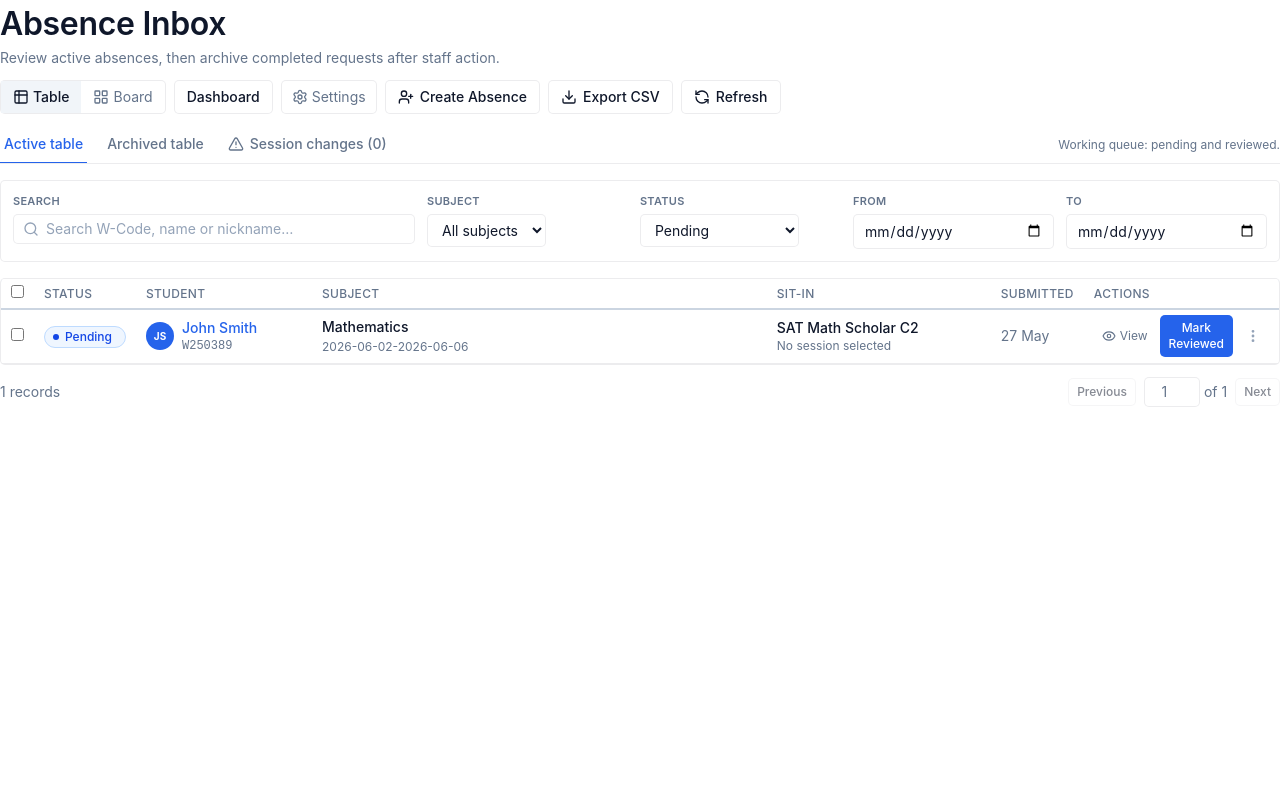
Scenario: Absence inbox › shows stale edit error toast on delete API conflict
The width and height of the screenshot is (1280, 800).
Expected: the link "John Smith" is shown, [182,318,257,336]
Click the button named "more actions" at coordinates (1253, 336), box [1237,320,1269,352]
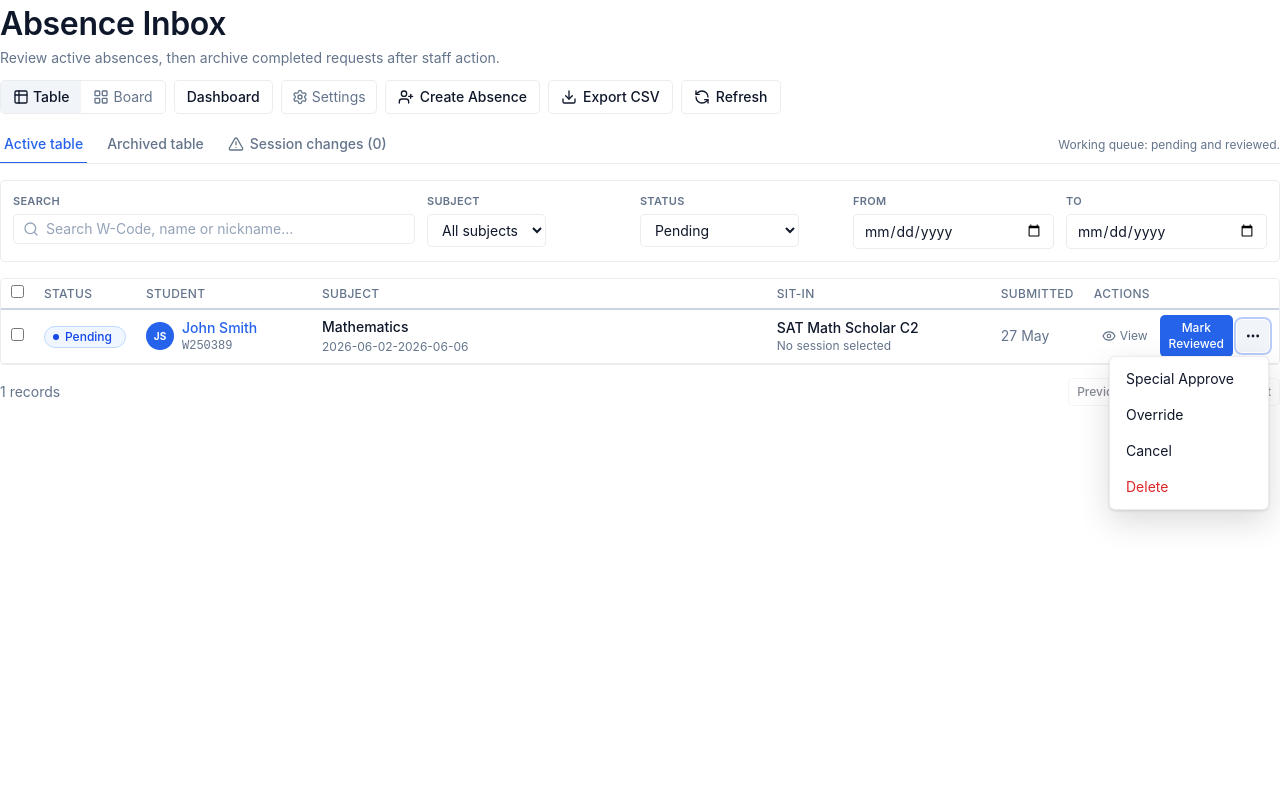
Click the menu item "Delete" at coordinates (1189, 486), box [1114,468,1264,504]
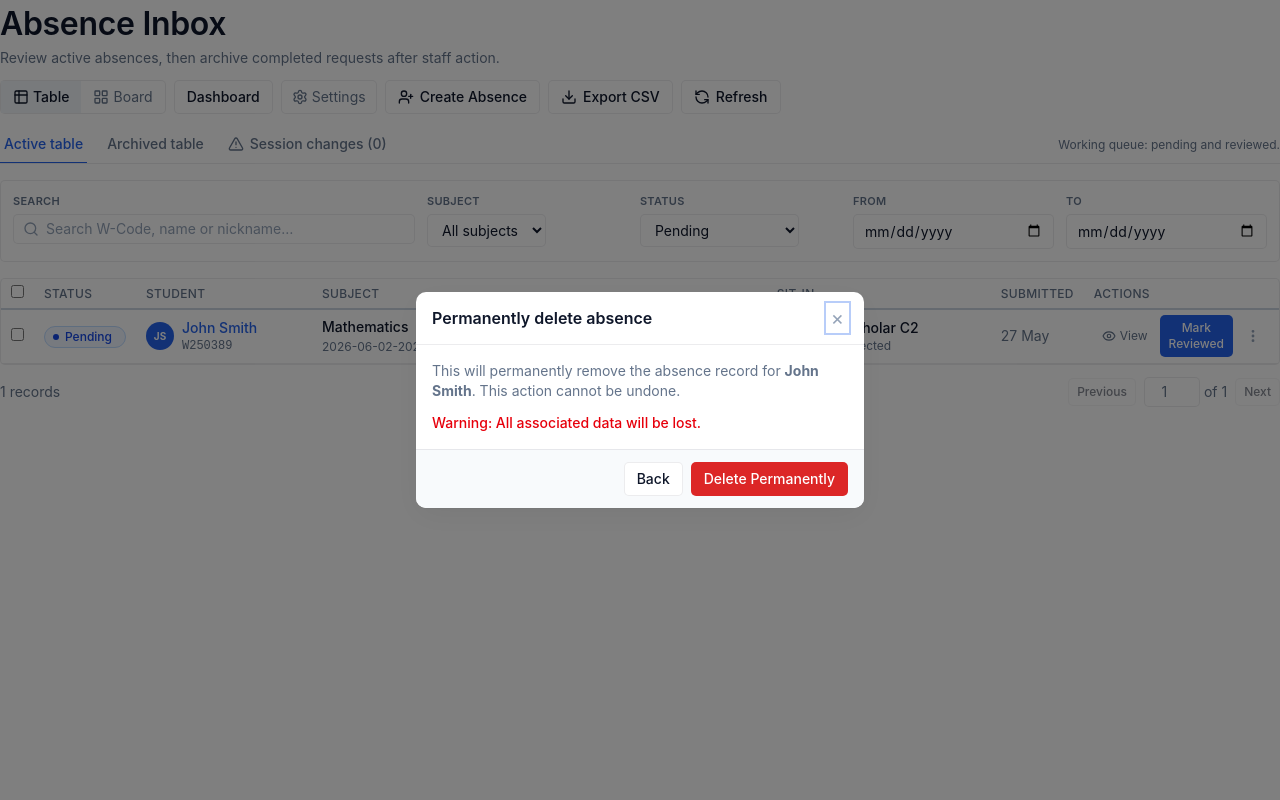
Click the button "Delete Permanently" at coordinates (769, 479), box [691,462,848,496]
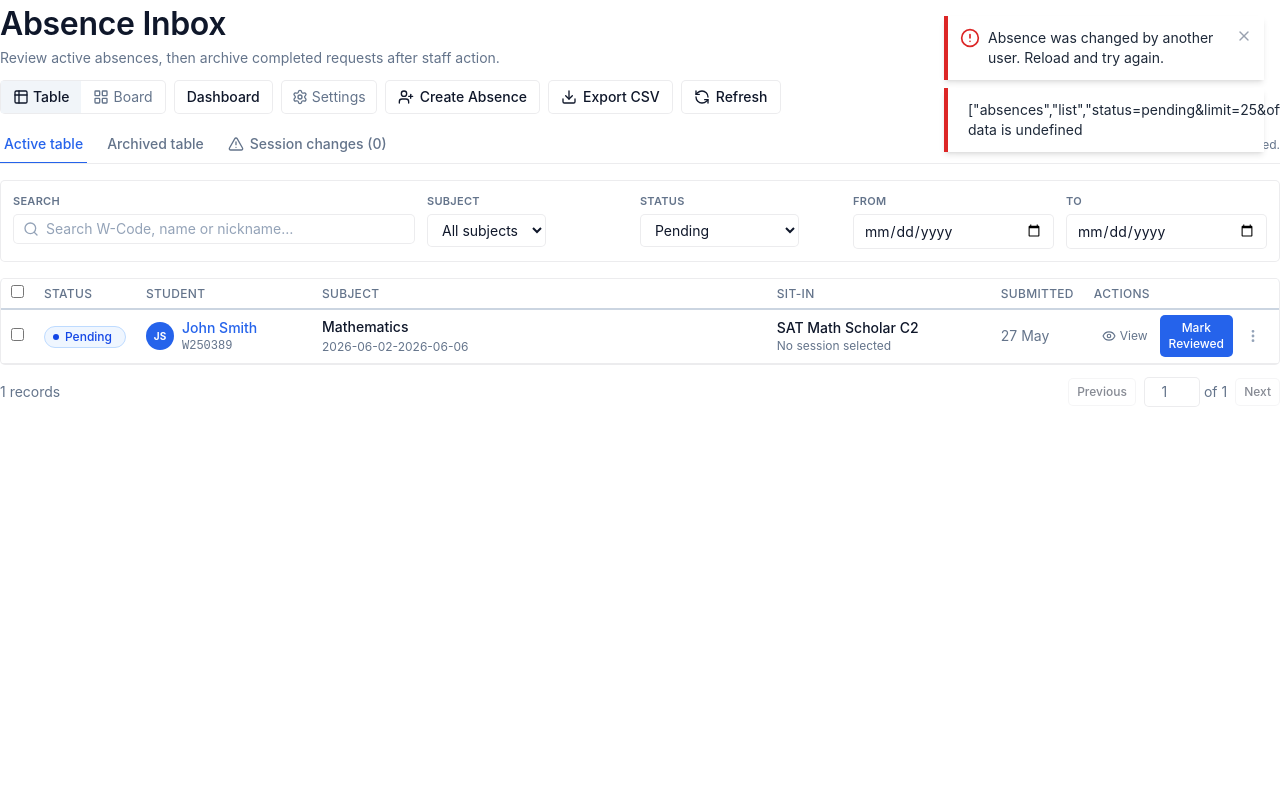
Result: the text "Absence was changed by another user. Reload and try again." is shown at [988,28,1228,68]
